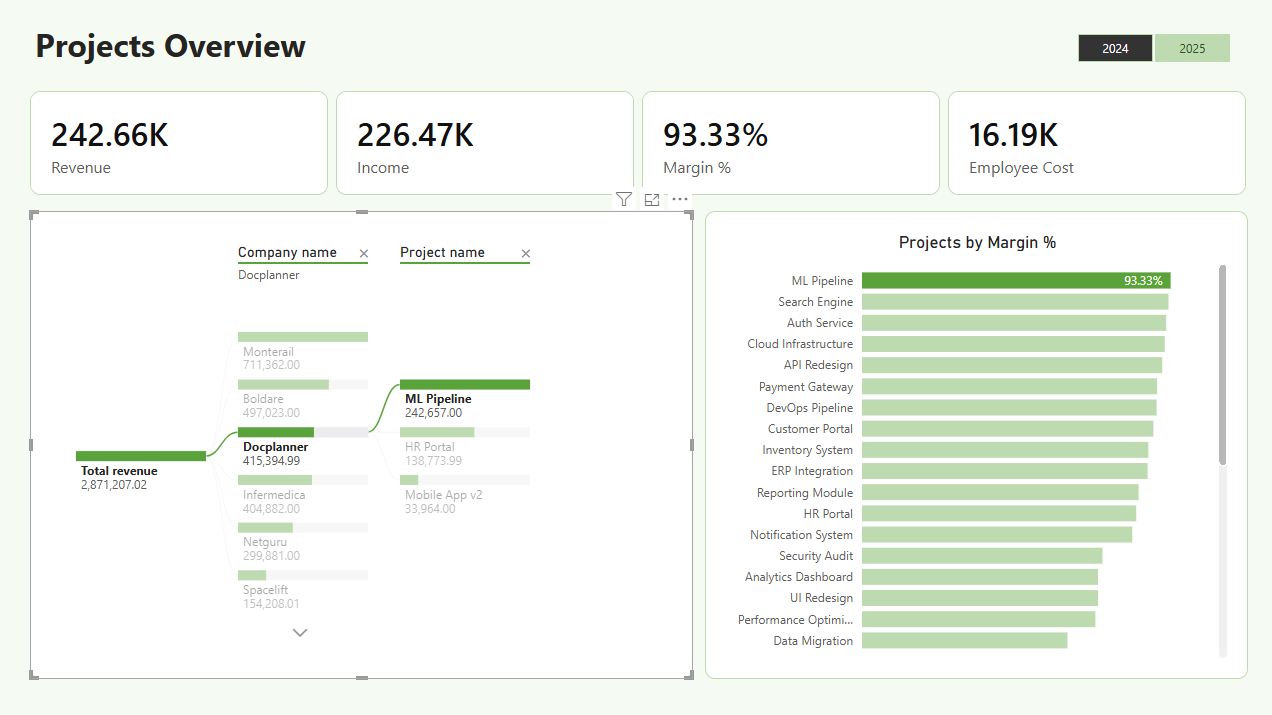

The page's visual inventory and layout, read from the dashboard file:
{"tool":"powerbi","page":{"name":"Overview","canvas":[1280,720],"ordinal":0},"visuals":[{"type":"cardVisual","fields":{"Data":["_Measures.Total Revenue","fact_timesheet.Total Income","fact_timesheet.Margin %","fact_timesheet.Total Employee Cost"]},"box":[30.9,93.4,1218.6,103.3],"z":0},{"type":"slicer","title":"kkkk","fields":{"Values":["dim_date.year"]},"box":[1058,34.3,192.1,31.6],"z":1000},{"type":"clusteredBarChart","title":"Projects by Margin %","fields":{"Y":["fact_timesheet.Margin %"],"Category":["dim_projects.project_name"]},"box":[705.8,213.3,543.3,467.5],"z":2000},{"type":"decompositionTreeVisual","fields":{"ExplainBy":["dim_projects.company_name","dim_projects.project_name"],"Analyze":["Sum(fact_invoices.amount_pln)"]},"box":[30.9,213.3,662.9,467.5],"z":3000},{"type":"textbox","box":[30.9,19.2,308.7,61.9],"z":4000}]}

Visuals, with their boxes in screenshot pixels (x1, y1, x2, y2), scaled from the page's 1280x720 canvas onto the 1272x715 screenshot:
cardVisual - _Measures.Total Revenue x fact_timesheet.Total Income: x1=31, y1=93, x2=1242, y2=195
"kkkk" slicer: x1=1051, y1=34, x2=1242, y2=65
"Projects by Margin %" clusteredBarChart: x1=701, y1=212, x2=1241, y2=676
decompositionTreeVisual - dim_projects.company_name x dim_projects.project_name: x1=31, y1=212, x2=689, y2=676
textbox: x1=31, y1=19, x2=337, y2=81
